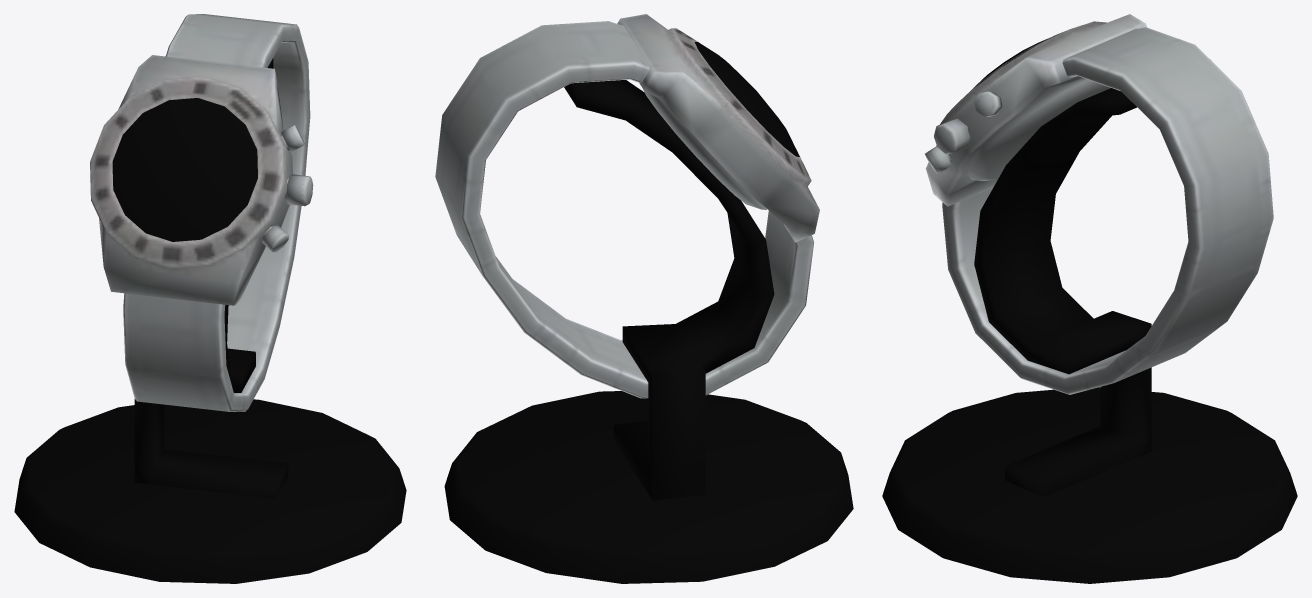
The picture shows the model from 3 angles, left to right: view 1: azimuth 30°, elevation 25°; view 2: azimuth 150°, elevation 25°; view 3: azimuth 270°, elevation 25°; orthographic projection. The views are drawn at different scales.
Bounding box in the file's own units: 3.87 × 4.79 × 3.87.
3 materials, 3 textured.
